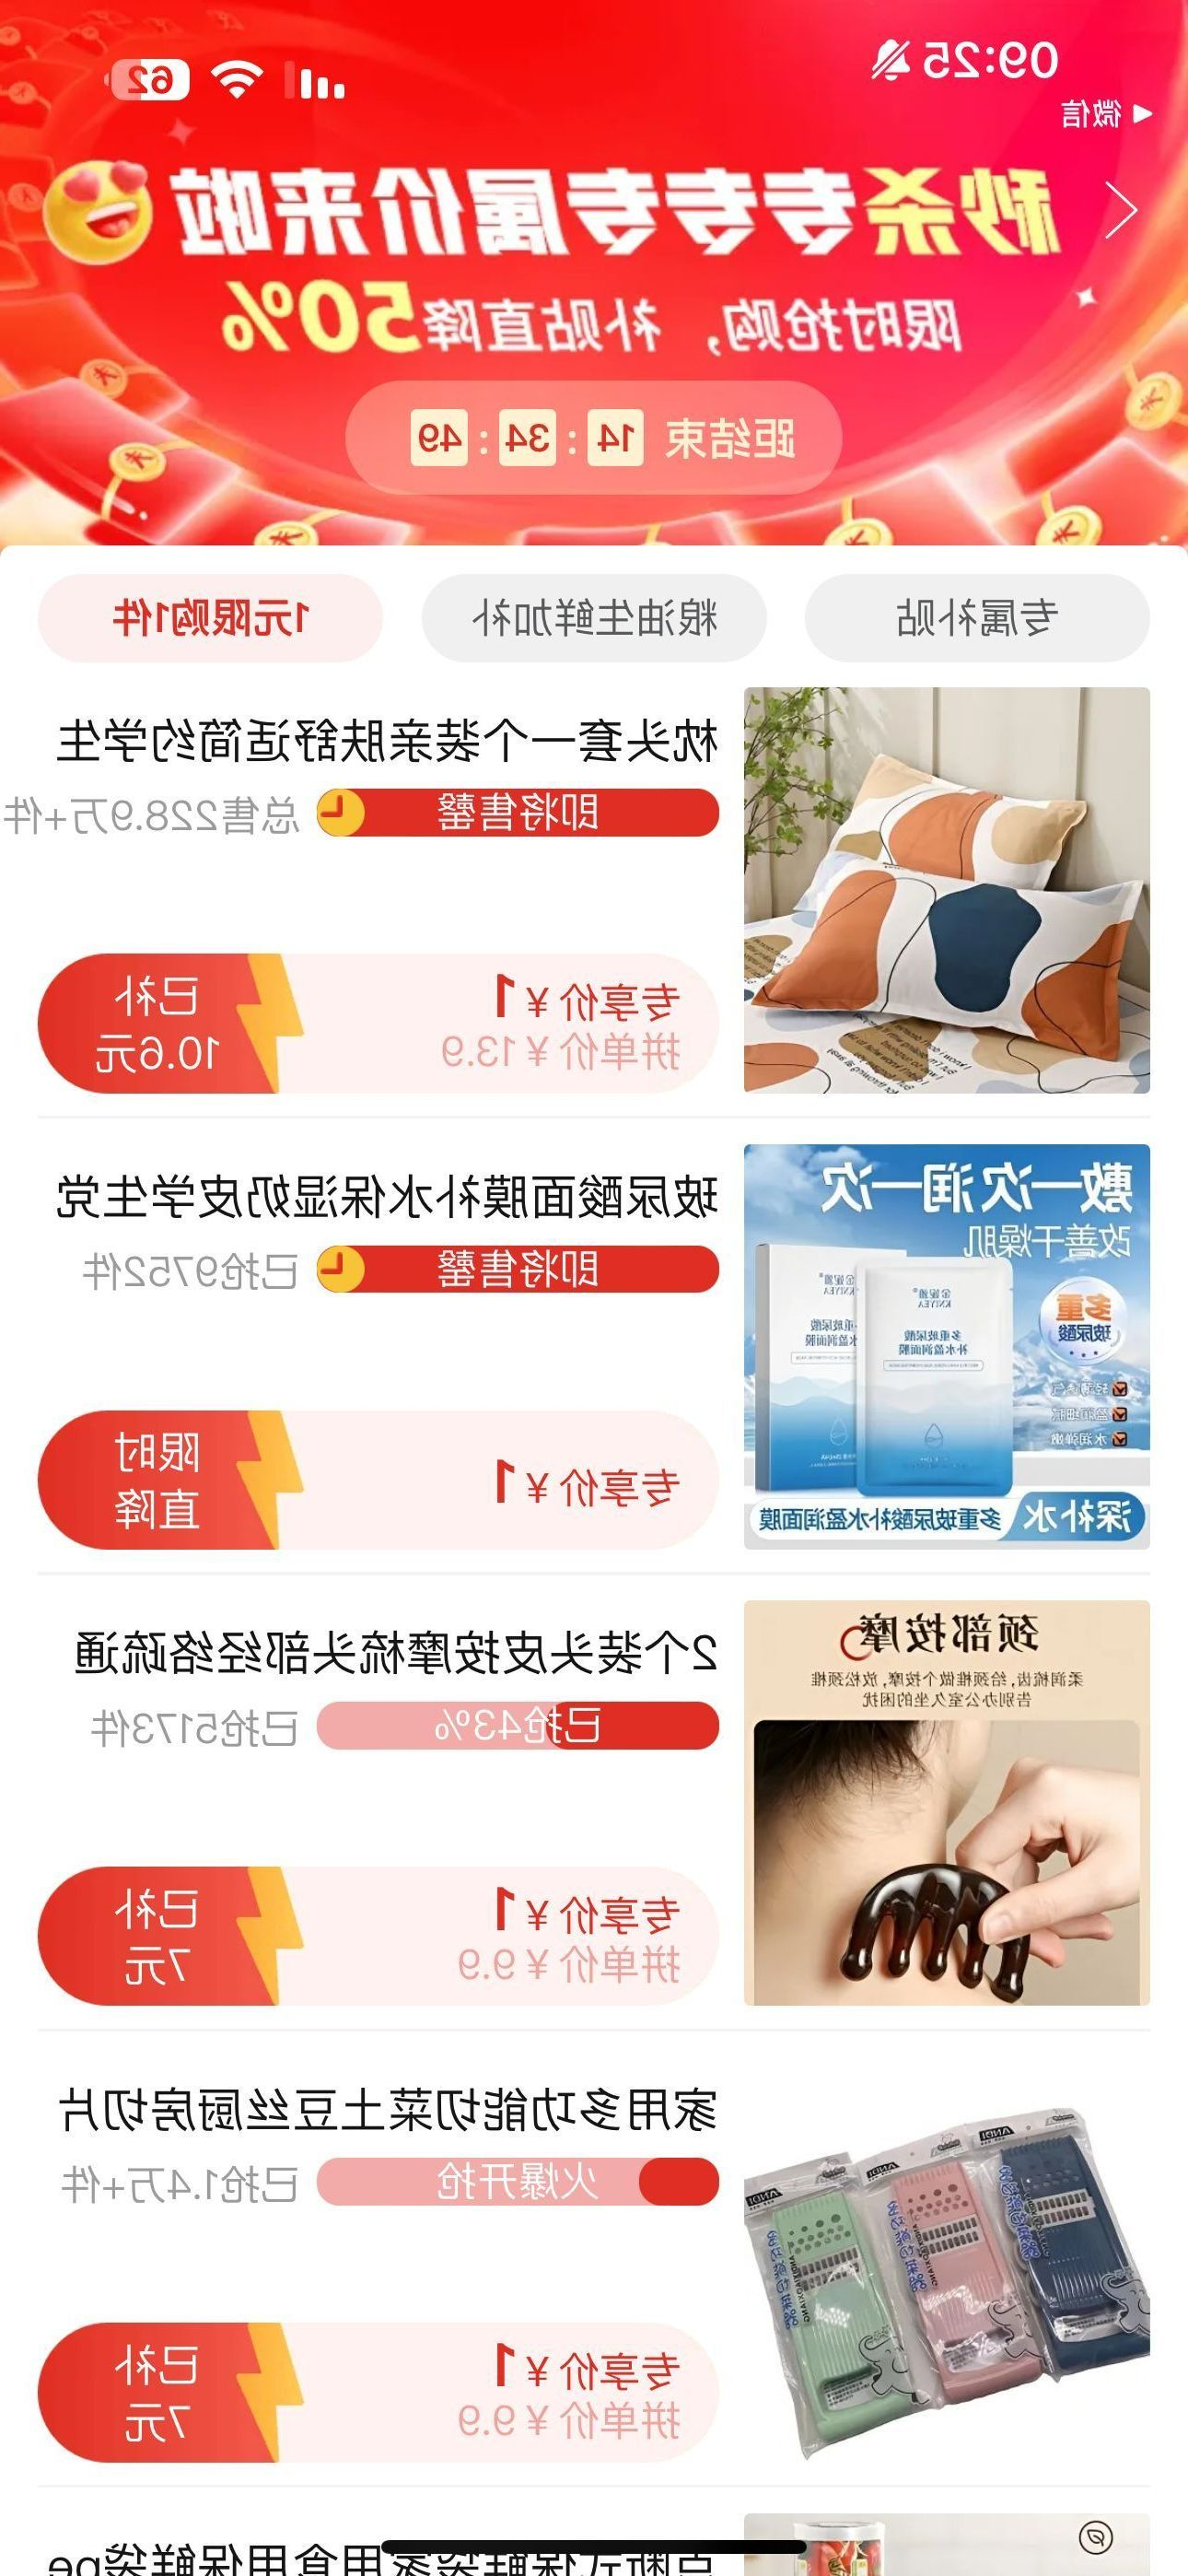item: (7, 2031, 1185, 2497), (5, 1129, 1186, 1577), (7, 1582, 1181, 2032), (7, 678, 1188, 1114)
op_bar: (2, 133, 1188, 286)
